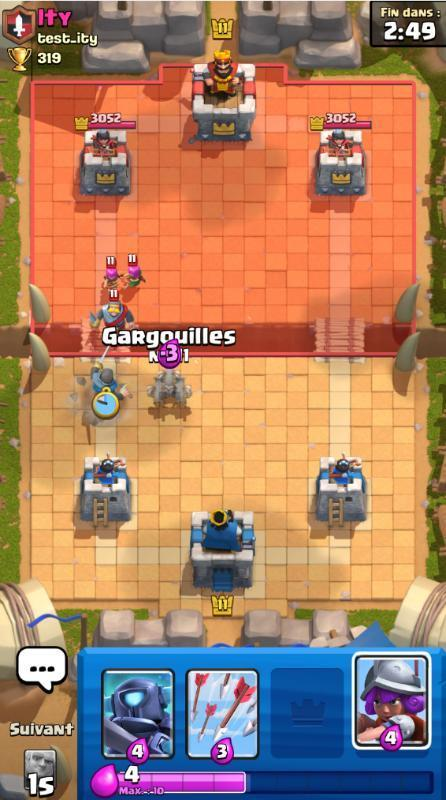enemy_archers: (98, 257, 122, 295), (123, 255, 148, 289)
enemy_knight: (84, 288, 142, 332)
player_knight: (77, 360, 132, 405)
